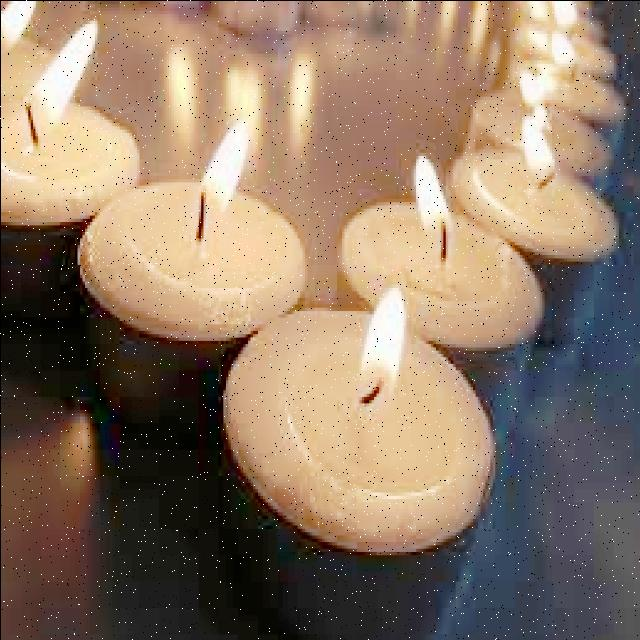api: (19, 11, 103, 153), (352, 278, 414, 410), (191, 117, 258, 239), (404, 143, 468, 259), (517, 110, 557, 189)
